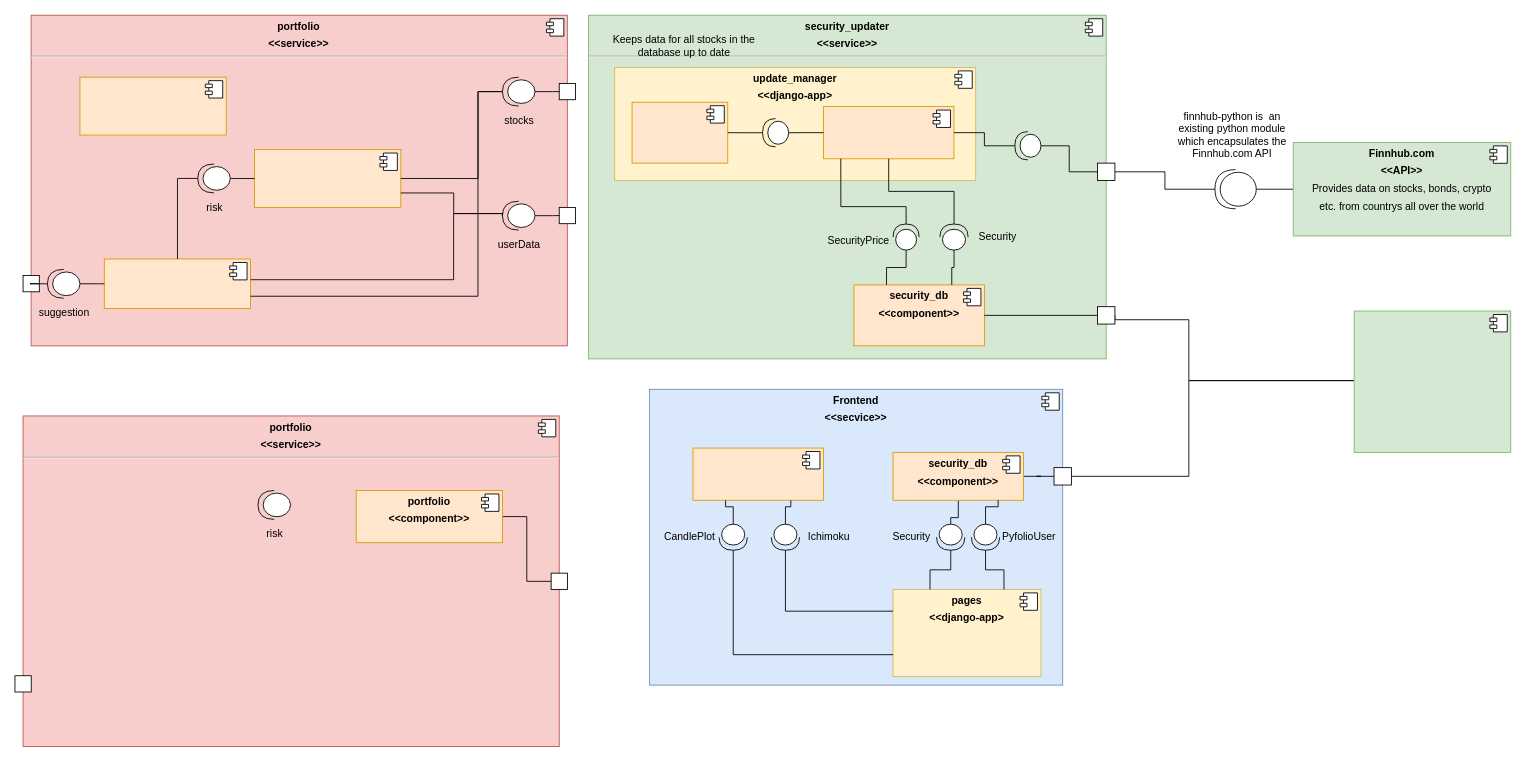
This 1527x762 diagram has some shape labels left out. Here are the shapes that lost their labels. From the top down, the centre of each, then its label:
At pixel 152 105: "roi <<component>>".
At pixel 679 132: "Scheduler --daily--".
At pixel 775 132: "updateSecurities".
At pixel 888 132: "SecurityUpdater <<component>>".
At pixel 1027 145: "finnhub".
At pixel 327 178: "risk <<component>>".
At pixel 1235 189: "finnhub-python".
At pixel 177 283: "suggestion <<component>>".
At pixel 1432 381: "Database User accounts, their investments and all stocks on TradeRepublic".
At pixel 757 473: "Visualization <<component>>".
